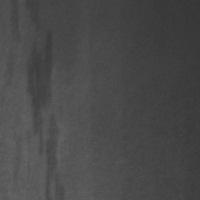inclusion: (21, 3, 67, 198)
